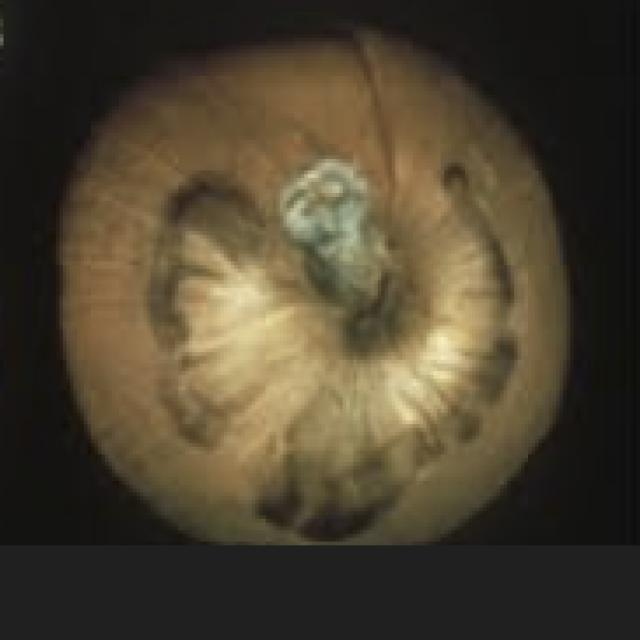mechanical_damage: (59, 30, 567, 542)
